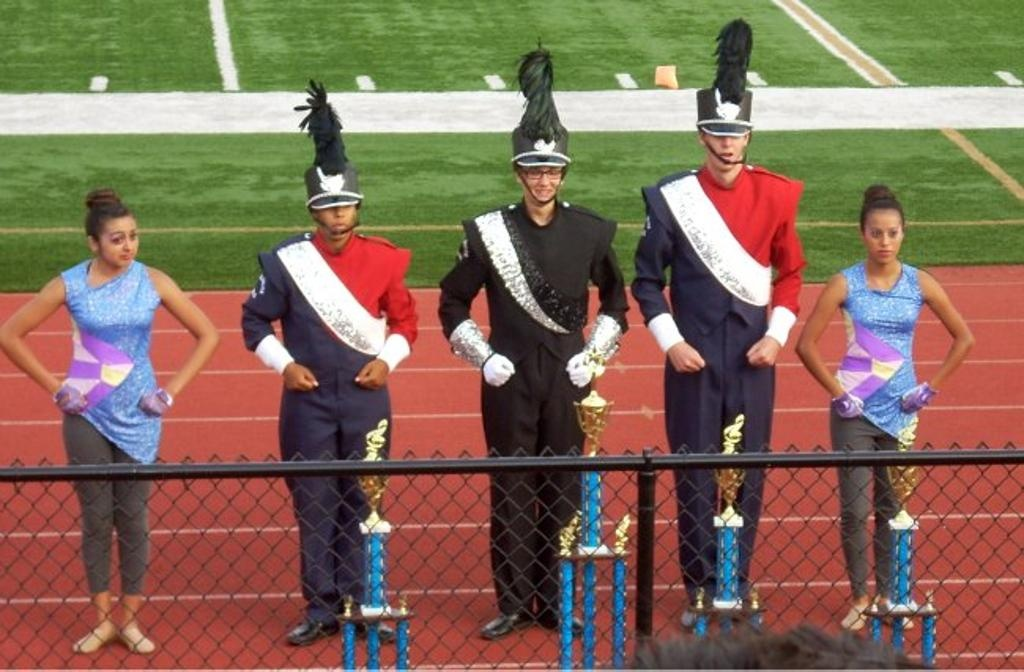human_face: (865, 209, 903, 263), (99, 217, 139, 267), (702, 123, 744, 170), (522, 156, 562, 202), (316, 190, 354, 232)
